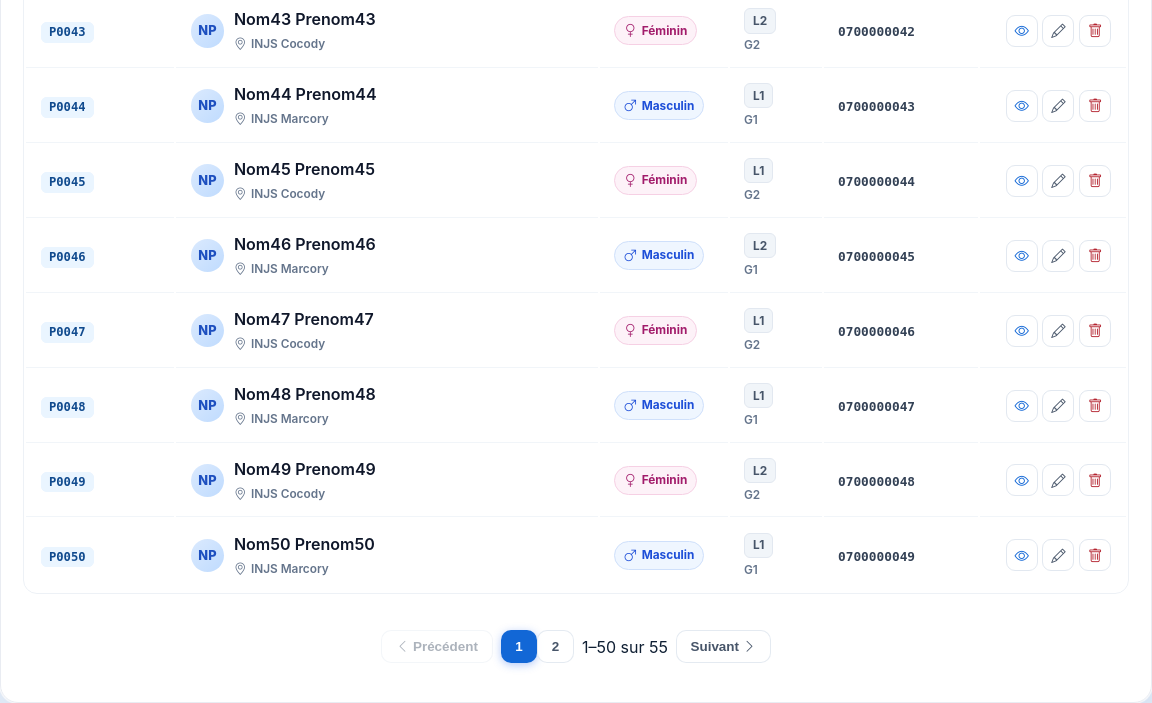
it: pages/Participants.jsx — liste serveur (LOT 23) › pagine vers la seconde page (Suivant → page=2, 5 lignes)
(page scrolled)
Click the button "Suivant" at (723, 647), box [676,630,771,663]
(page scrolled)
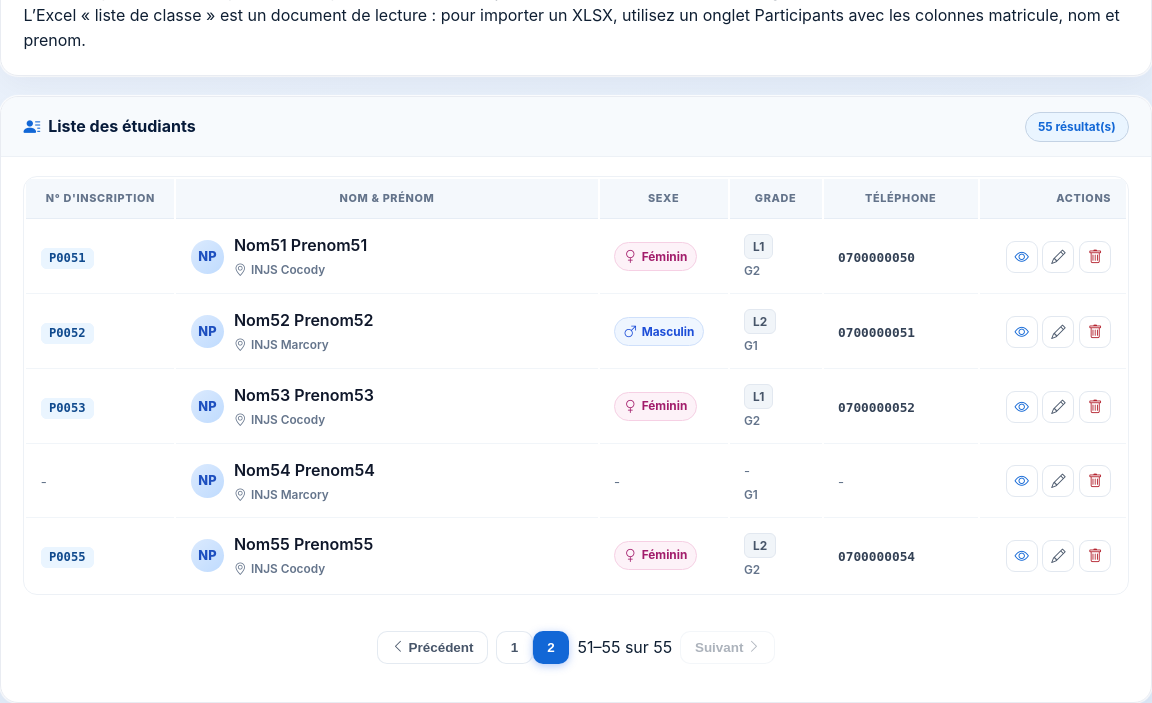
Result: the text "Nom51 Prenom51" is shown at [234,233,367,258]
Result: the text "Nom55 Prenom55" is shown at [234,532,373,557]
Result: the text "51–55 sur 55" is shown at [577,635,672,660]
